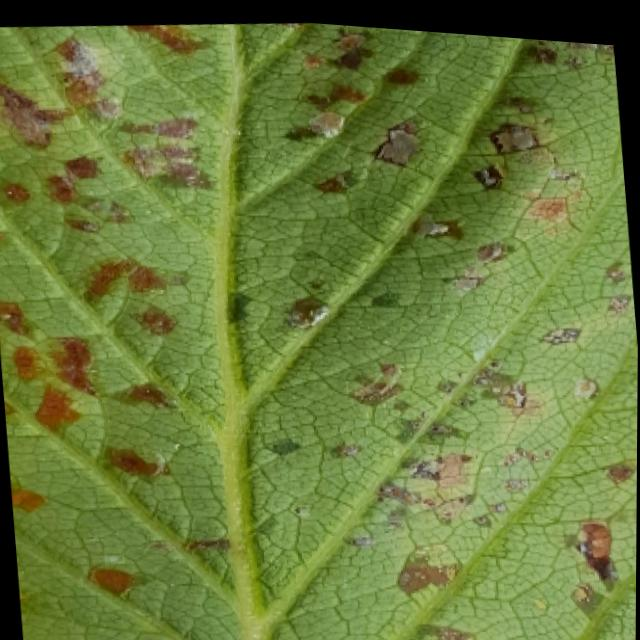Angular Leafspot: (0, 18, 638, 640)
